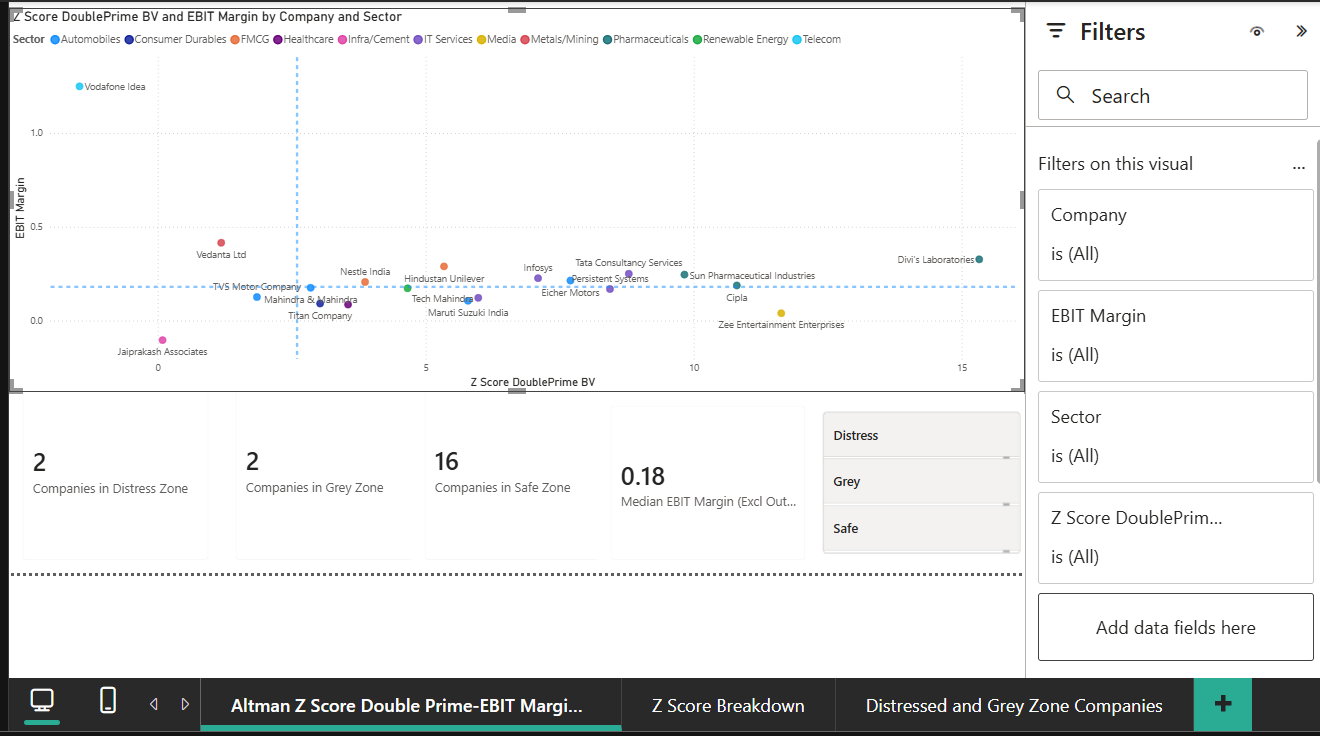

The dashboard page shown, as its layout file describes it:
{"tool":"powerbi","page":{"name":"Altman Z Score Double Prime-EBIT Margin Scatter Plot","canvas":[1280,720],"ordinal":0},"visuals":[{"type":"cardVisual","fields":{"Data":["Financials.Companies in Distress Zone"]},"box":[0,457.3,268.3,262.7],"z":0},{"type":"cardVisual","fields":{"Data":["Financials.Companies in Grey Zone"]},"box":[268.3,455.4,268.3,264.6],"z":1},{"type":"cardVisual","fields":{"Data":["Financials.Companies in Safe Zone"]},"box":[506.5,455.4,268.3,264.6],"z":2},{"type":"scatterChart","fields":{"X":["Financials.Z Score DoublePrime BV"],"Y":["Financials.EBIT Margin"],"Series":["Financials.Sector"],"Category":["Financials.Company"]},"box":[0,7.6,1279.4,483.8],"z":3},{"type":"cardVisual","fields":{"Data":["Financials.Median EBIT Margin (Excl Outlier)"]},"box":[740.8,491.3,279.7,228.7],"z":4},{"type":"cardVisual","fields":{"Rows":["Financials.Zone"]},"box":[1021,492,258,228],"z":5}]}

Visuals, with their boxes on the page's 1280x720 design canvas (x1, y1, x2, y2). These are canvas units, not pixel positions in the 1320x736 screenshot, which may show the page scaled, cropped or inside an application window:
cardVisual - Financials.Companies in Distress Zone: {"x1": 0, "y1": 457, "x2": 268, "y2": 720}
cardVisual - Financials.Companies in Grey Zone: {"x1": 268, "y1": 455, "x2": 537, "y2": 720}
cardVisual - Financials.Companies in Safe Zone: {"x1": 506, "y1": 455, "x2": 775, "y2": 720}
scatterChart - Financials.Z Score DoublePrime BV x Financials.EBIT Margin: {"x1": 0, "y1": 8, "x2": 1279, "y2": 491}
cardVisual - Financials.Median EBIT Margin (Excl Outlier): {"x1": 741, "y1": 491, "x2": 1020, "y2": 720}
cardVisual - Financials.Zone: {"x1": 1021, "y1": 492, "x2": 1279, "y2": 720}
